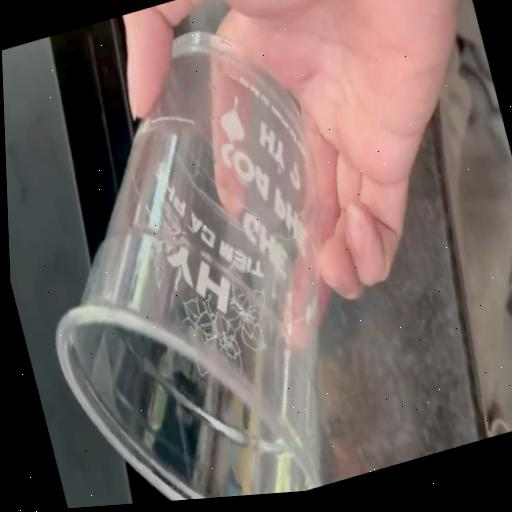ly_nhua: (56, 33, 325, 500), (56, 30, 320, 500)
